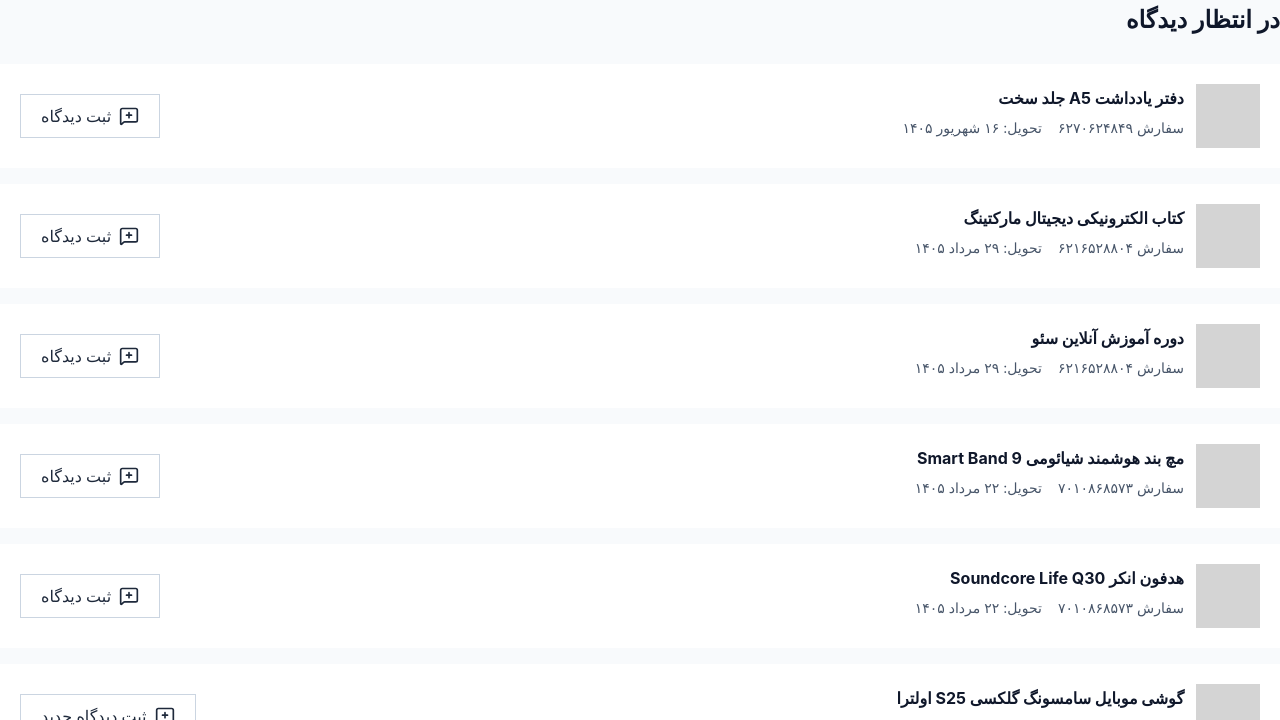
a review sent › 201: the API’s sentence, the purchase (and its order, now empty) gone, list and summary read again
This screenshot has width=1280, height=720.
Click the button "ثبت دیدگاه" in the row of "۱۶ شهریور ۱۴۰۵" at x=90, y=116, box x1=20 y1=94 x2=160 y2=138
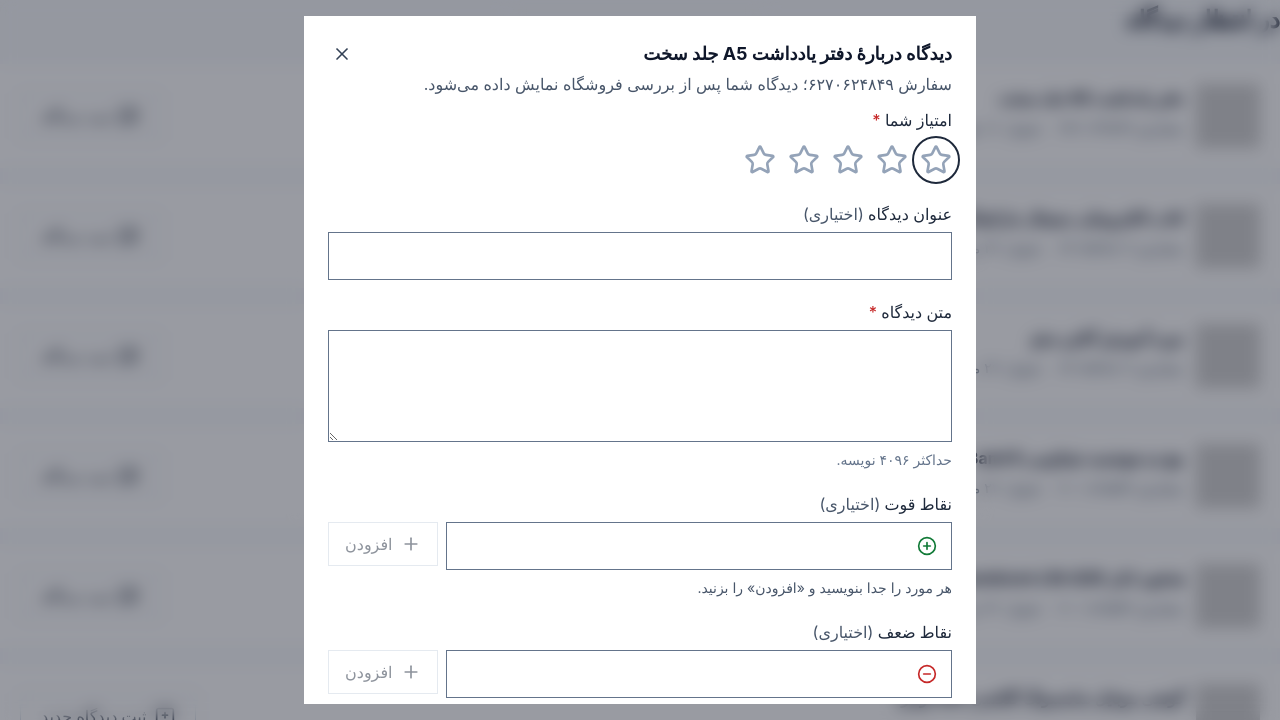
Click the radio button named "۵ ستاره" at x=760, y=160, box x1=744 y1=144 x2=776 y2=176
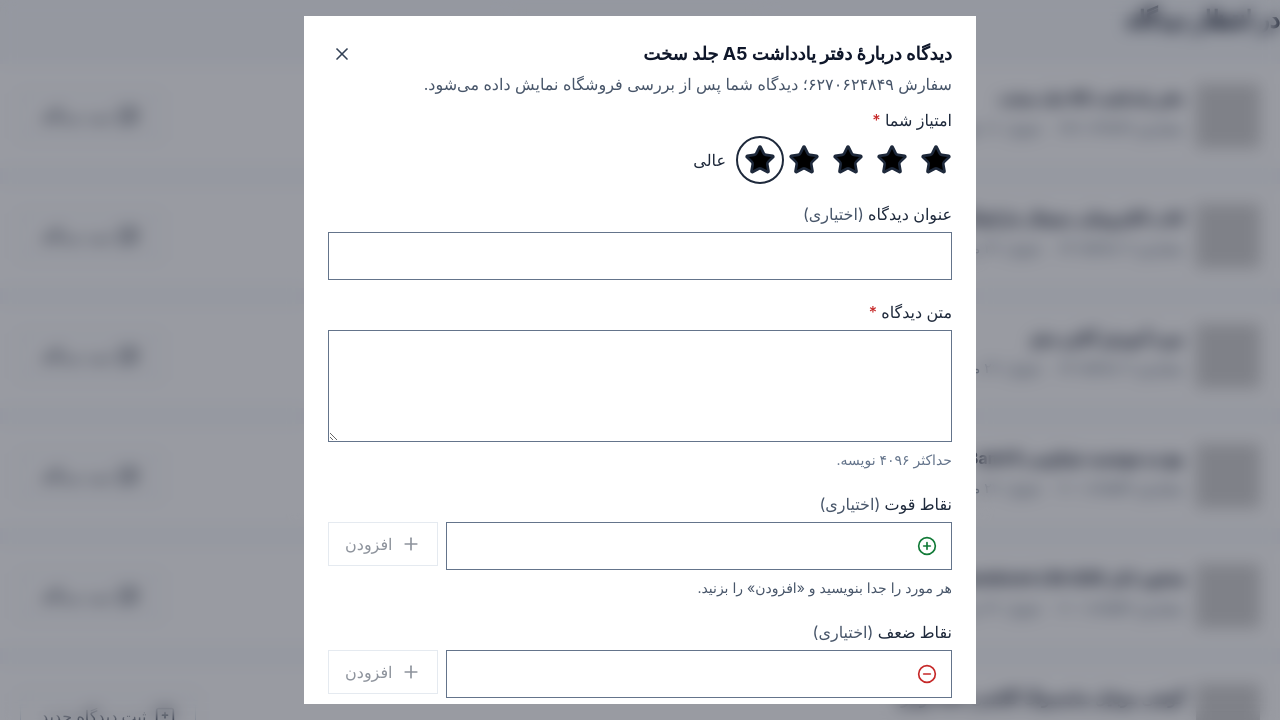
Type "کاغذ خوبی دارد" into the text box labelled "متن دیدگاه *" at x=640, y=386, box x1=328 y1=330 x2=952 y2=442
(page scrolled)
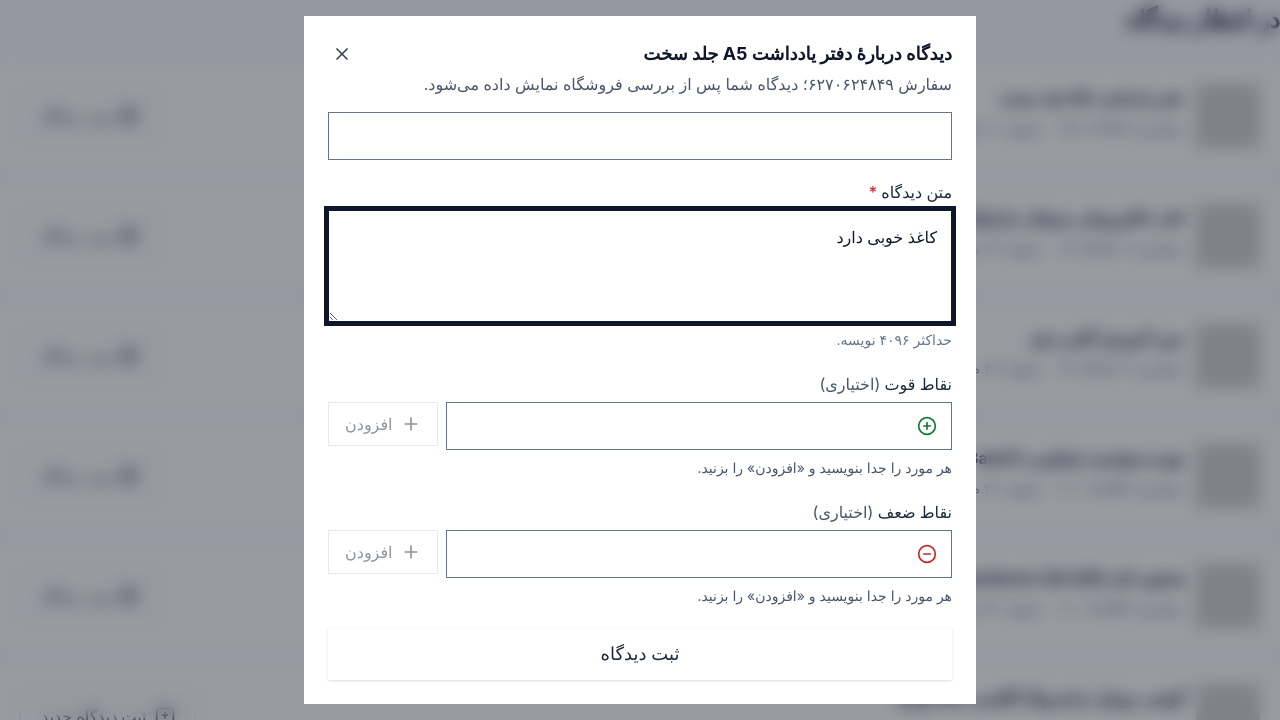
Click the button "ثبت دیدگاه" at x=640, y=654, box x1=328 y1=628 x2=952 y2=680
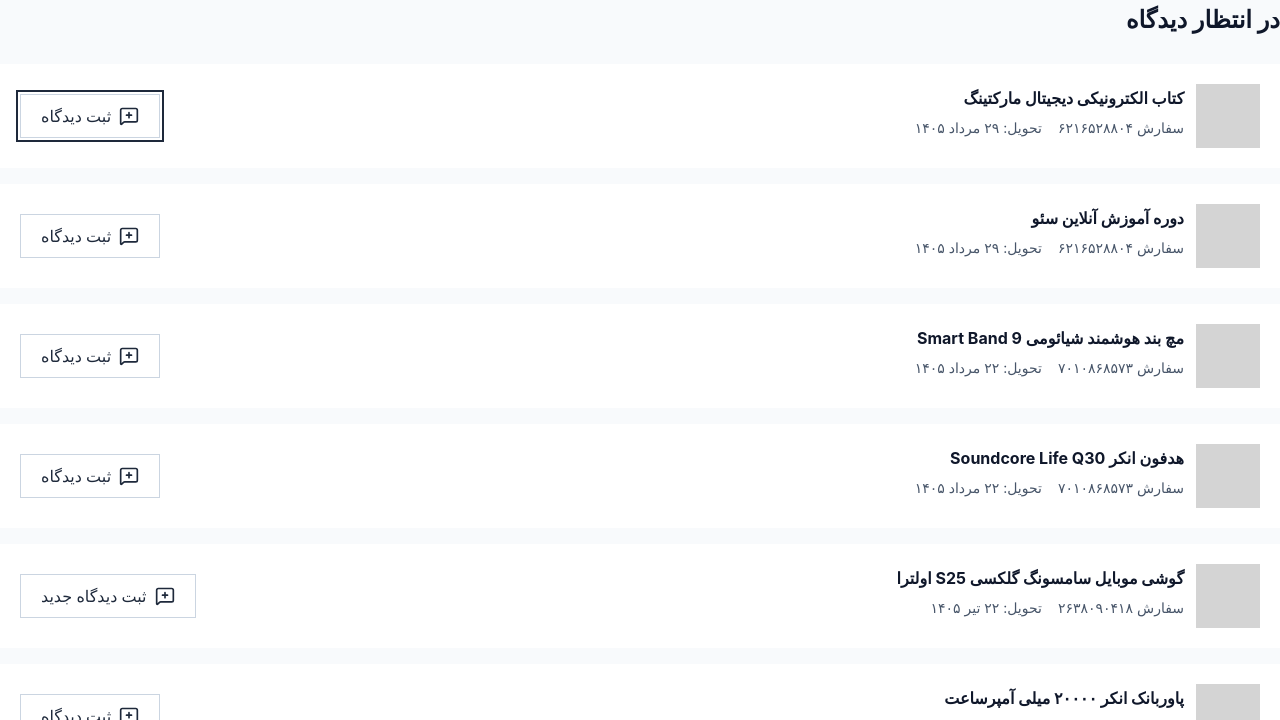
Now the dialog is gone
Now the link "دفتر یادداشت A5" is gone
